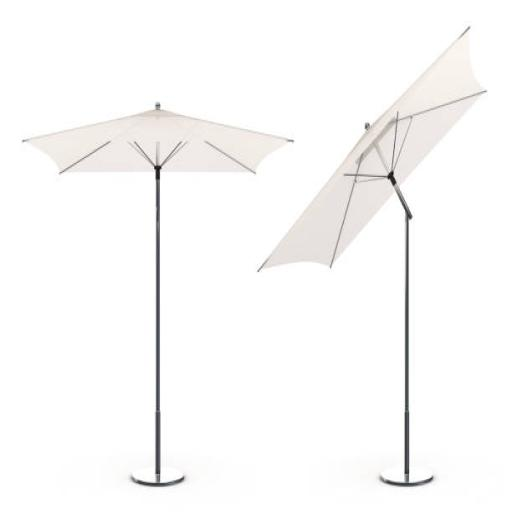guarda_chuva: (256, 24, 487, 485), (21, 100, 294, 487)
